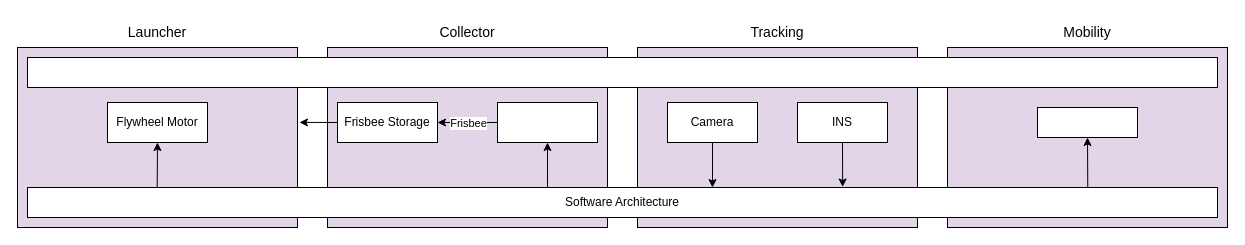
The diagram is 1245 pixels wide and 245 high, and some of its shapes have lost their labels. Here are the shapes that lost their labels. From the top down, the box of each, then its label:
(26, 56, 1218, 88): Power Distribution
(496, 102, 598, 142): Collector Mechanism
(1036, 106, 1138, 138): Wheel Motors
